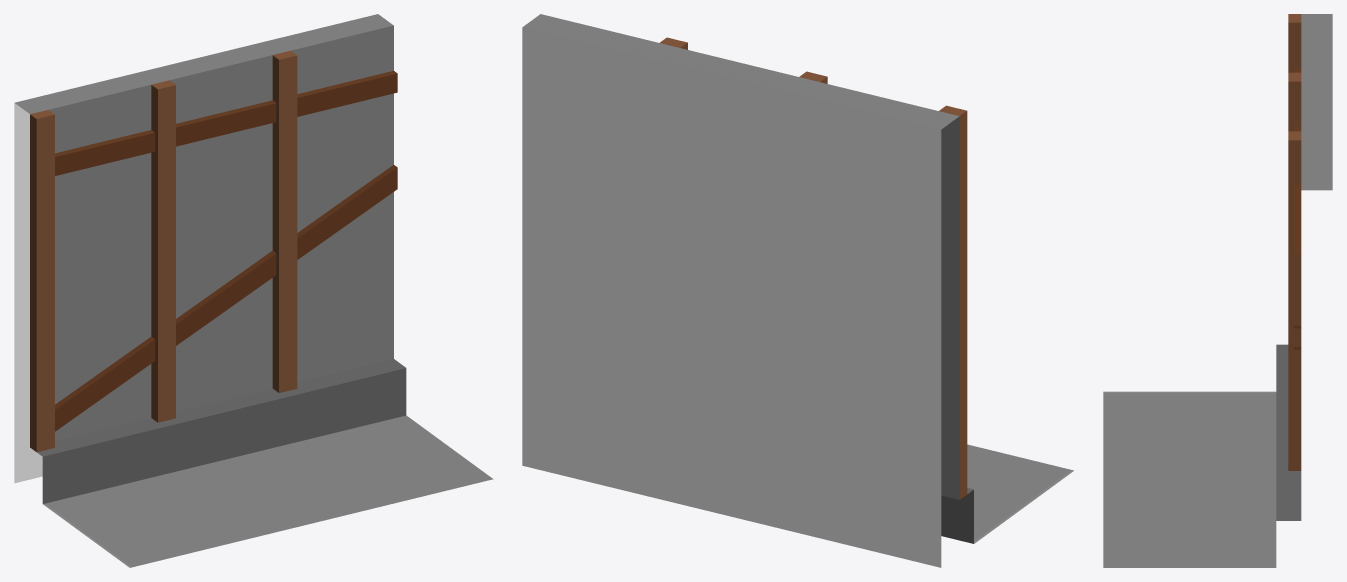
The model's file is E_Wall_Straight_Bare_3.fbx.
3 views of the same model, side by side, from view 1: azimuth 30°, elevation 25°; view 2: azimuth 150°, elevation 25°; view 3: azimuth 270°, elevation 25° (orthographic). The views are drawn at different scales.
Visible parts, largest first — view 1: E_Wall_Straight_Bare_3; view 2: E_Wall_Straight_Bare_3; view 3: E_Wall_Straight_Bare_3.
Part boxes in pixels (<box>): E_Wall_Straight_Bare_3: <box>14,14,493,567</box>; E_Wall_Straight_Bare_3: <box>522,14,1073,567</box>; E_Wall_Straight_Bare_3: <box>1103,14,1332,567</box>.
Bounding box in the file's own units: 200 × 200 × 110.
